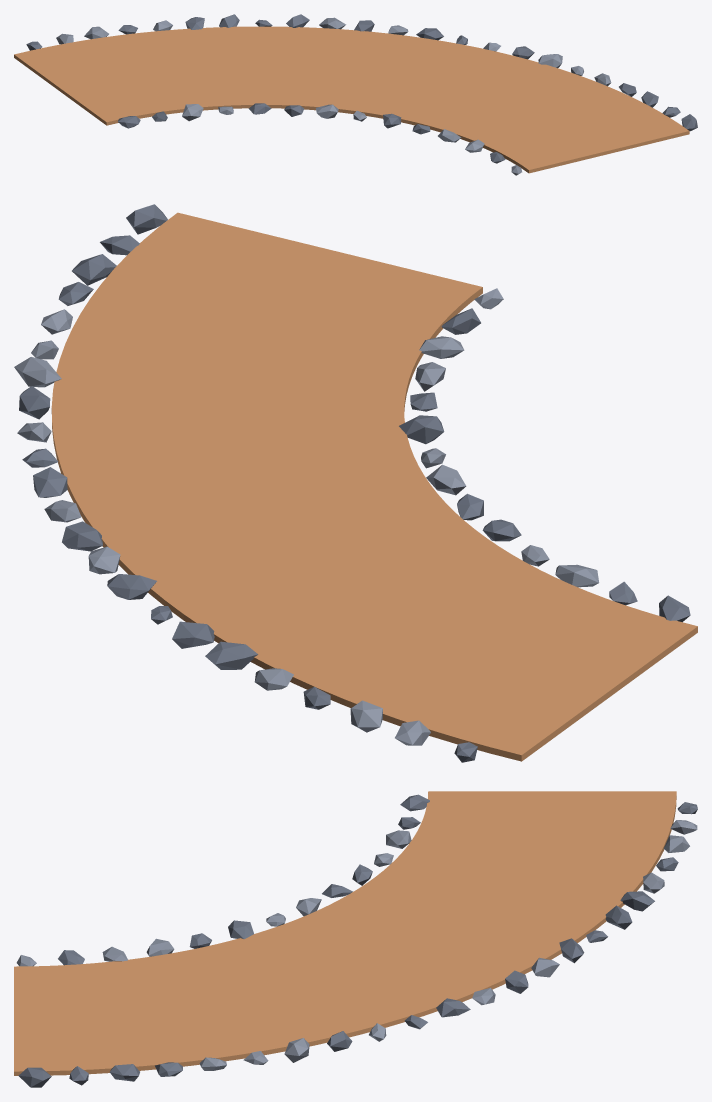
File: camino_curvo_90.glb
3 views of the same model, one above another, from view 1: azimuth 30°, elevation 25°; view 2: azimuth 150°, elevation 25°; view 3: azimuth 270°, elevation 25° (orthographic). The views are drawn at different scales.
Visible parts, largest first — view 1: suelo, borde_12, borde_21; view 2: suelo, borde_32, borde_21, borde_29, borde_27, borde_6, borde_31, borde_17, borde_25; view 3: suelo, borde_15, borde_32.
Boxes of the visible parts, left/top/right/bottom form: suelo: left=14, top=26, right=689, bottom=173; borde_12: left=182, top=104, right=203, bottom=121; borde_21: left=538, top=54, right=562, bottom=68; suelo: left=51, top=212, right=697, bottom=761; borde_32: left=205, top=641, right=257, bottom=669; borde_21: left=14, top=357, right=61, bottom=387; borde_29: left=107, top=574, right=156, bottom=599; borde_27: left=62, top=521, right=102, bottom=551; borde_6: left=399, top=415, right=444, bottom=444; borde_31: left=172, top=621, right=214, bottom=648; borde_17: left=72, top=254, right=116, bottom=285; borde_25: left=33, top=467, right=67, bottom=497; suelo: left=14, top=791, right=676, bottom=1075; borde_15: left=18, top=1067, right=51, bottom=1087; borde_32: left=620, top=891, right=654, bottom=911.
Bounding box in the file's own units: 8.31 × 0.2547 × 8.26.
